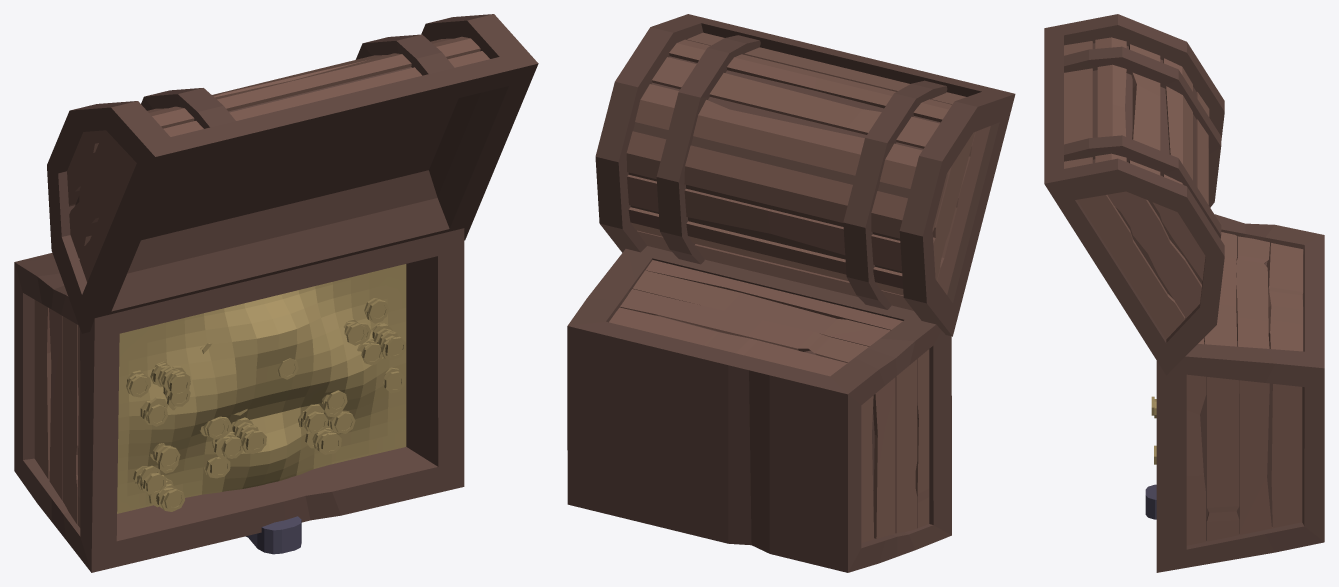
The model's file is chest.glb.
The picture shows the model from 3 angles, left to right: view 1: azimuth 30°, elevation 25°; view 2: azimuth 150°, elevation 25°; view 3: azimuth 270°, elevation 25°; orthographic projection. The views are drawn at different scales.
Visible parts, largest first — view 1: Chest_Top; view 2: Chest_Top; view 3: Chest_Top.
Part boxes in pixels (x1,y1,x2,y2): Chest_Top: (14,14,538,572); Chest_Top: (567,14,1015,572); Chest_Top: (1044,14,1324,572).
Bounding box in the file's own units: 1.18 × 1.48 × 0.8989.
